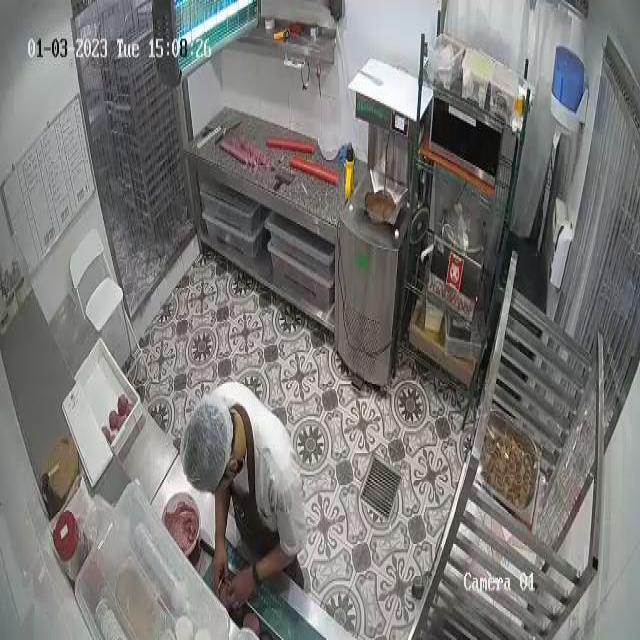hairnet: (184, 401, 227, 487)
